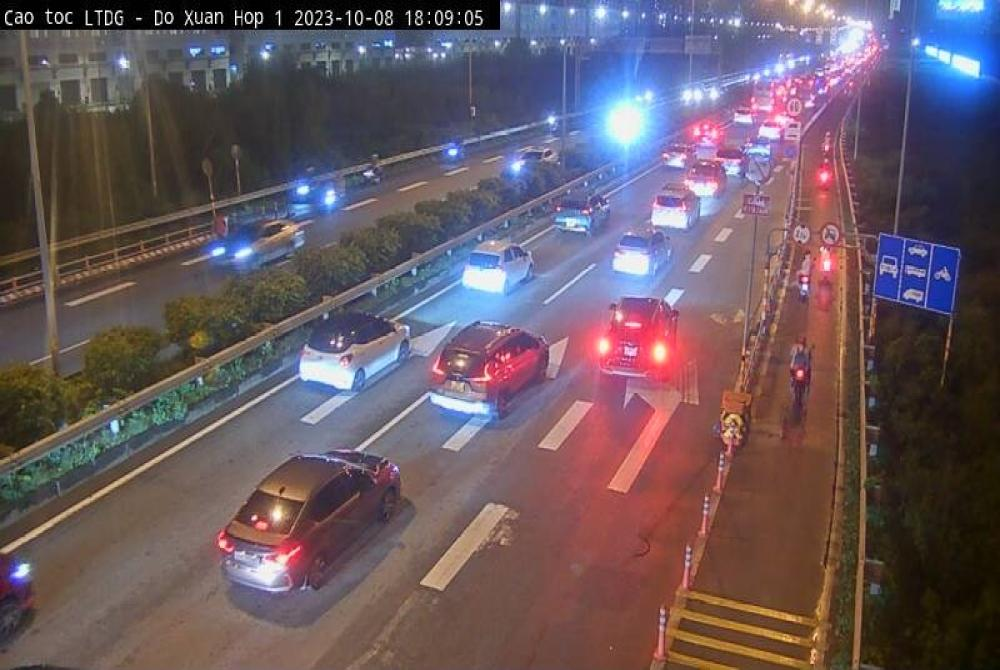car: (219, 449, 404, 599), (429, 322, 554, 418), (302, 308, 418, 395), (596, 296, 680, 383), (460, 241, 535, 295), (0, 548, 40, 642), (554, 184, 612, 239), (612, 226, 674, 277), (654, 182, 702, 230), (662, 142, 696, 168)
